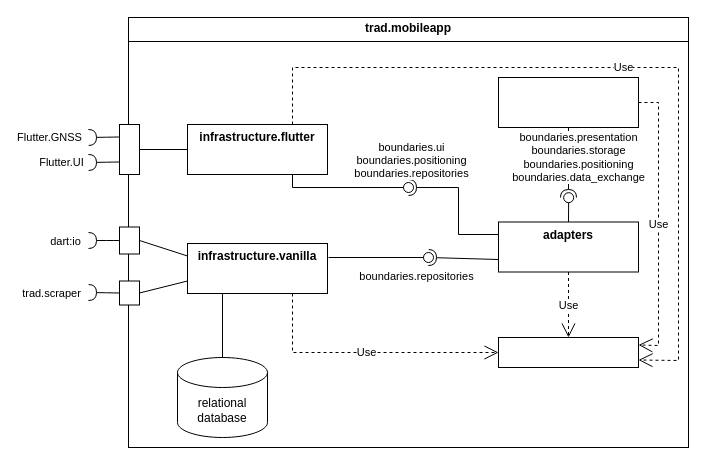
Image size: 711x465. Some labels were removed from this diagram. The shapes that lost their labels are listed below. From the top down, each one's centre as x and y in pixels, then its label:
At point (568, 102): "core".
At point (568, 352): "crosscutting".
